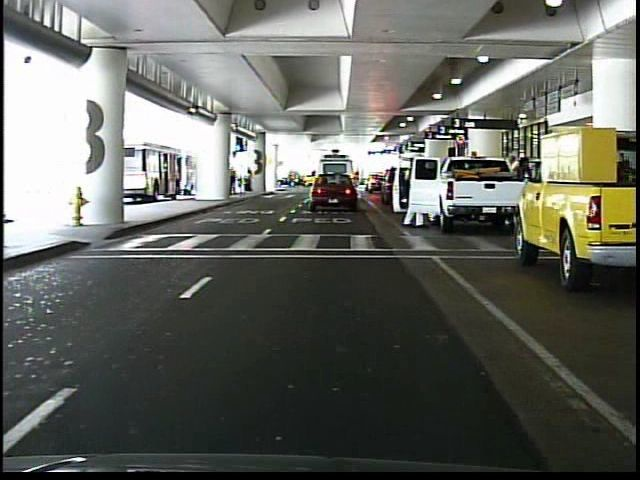person: (227, 163, 239, 198), (244, 166, 257, 195)
